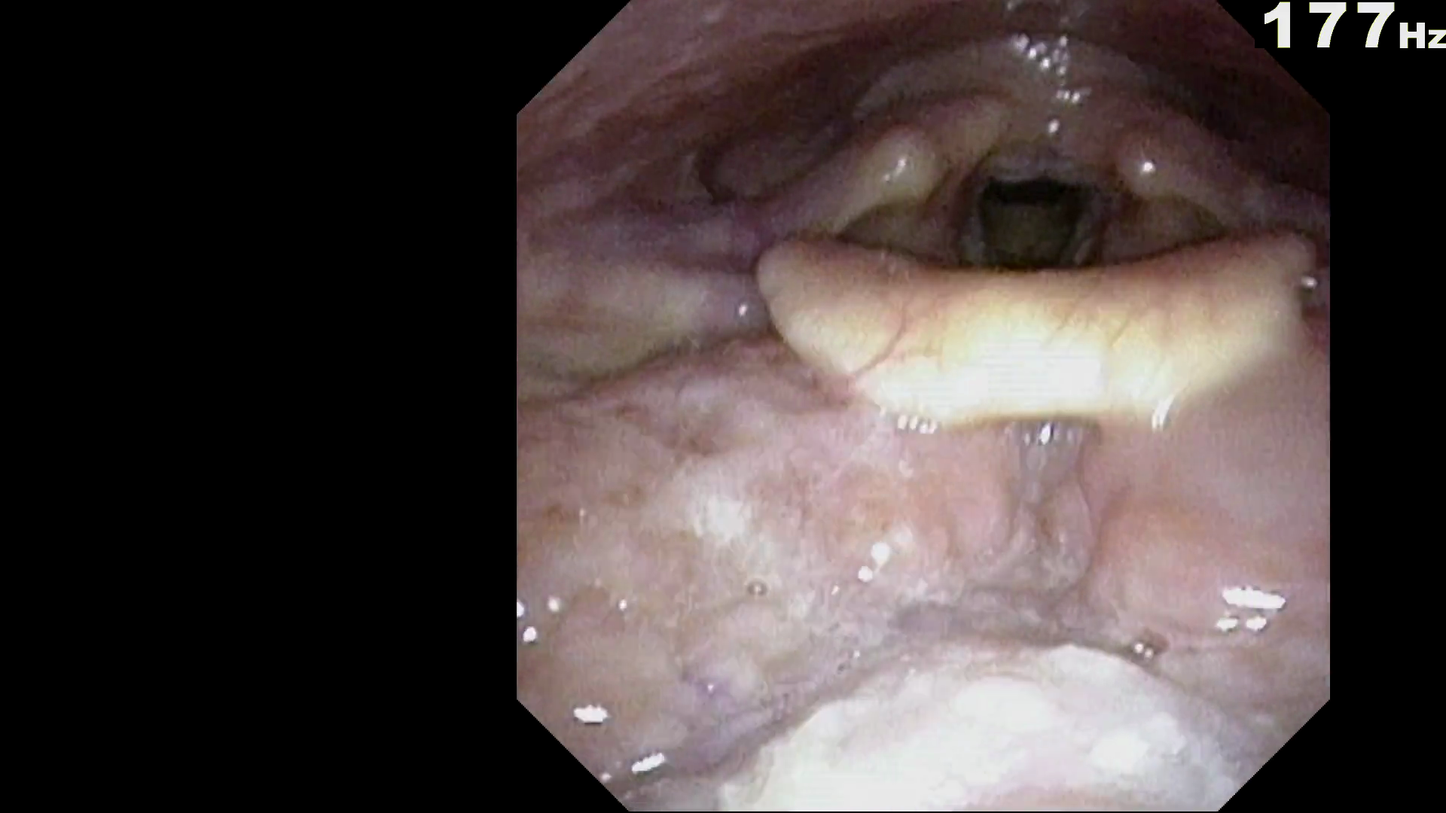epiglottis: (731, 189, 1312, 473)
trachea: (961, 165, 1107, 320)
